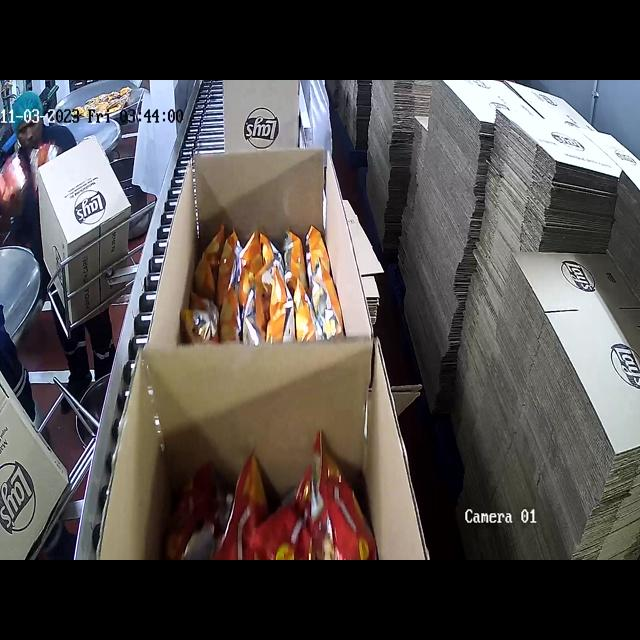cheese: (188, 219, 349, 352)
masala: (137, 443, 391, 560)
